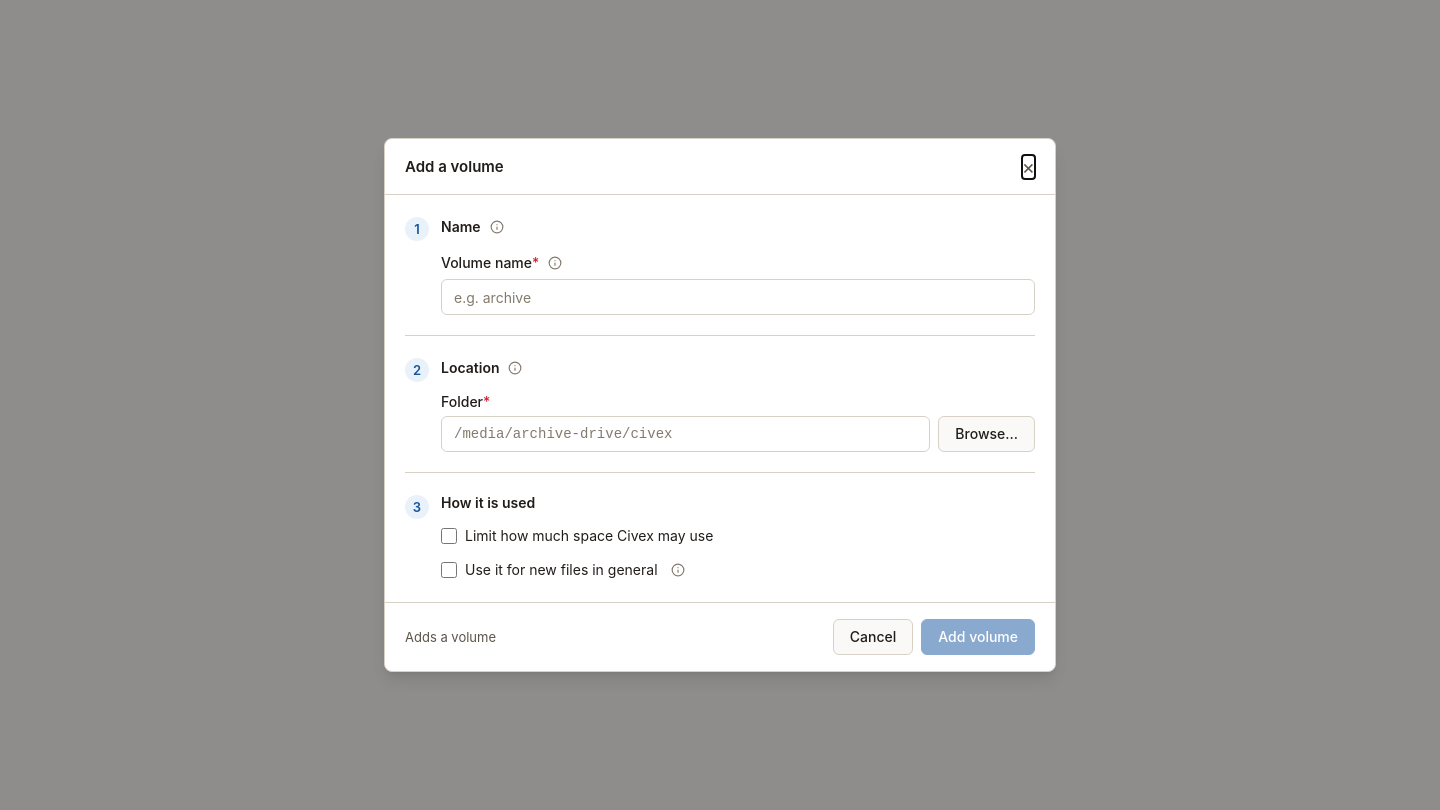
Test: AddVolumeModal › checks the folder as you type and enables adding when it is fine
The image size is (1440, 810).
Step 1. Type "archive" into the field labelled "Volume name*" → [738, 297], box 441,279 -> 1035,315
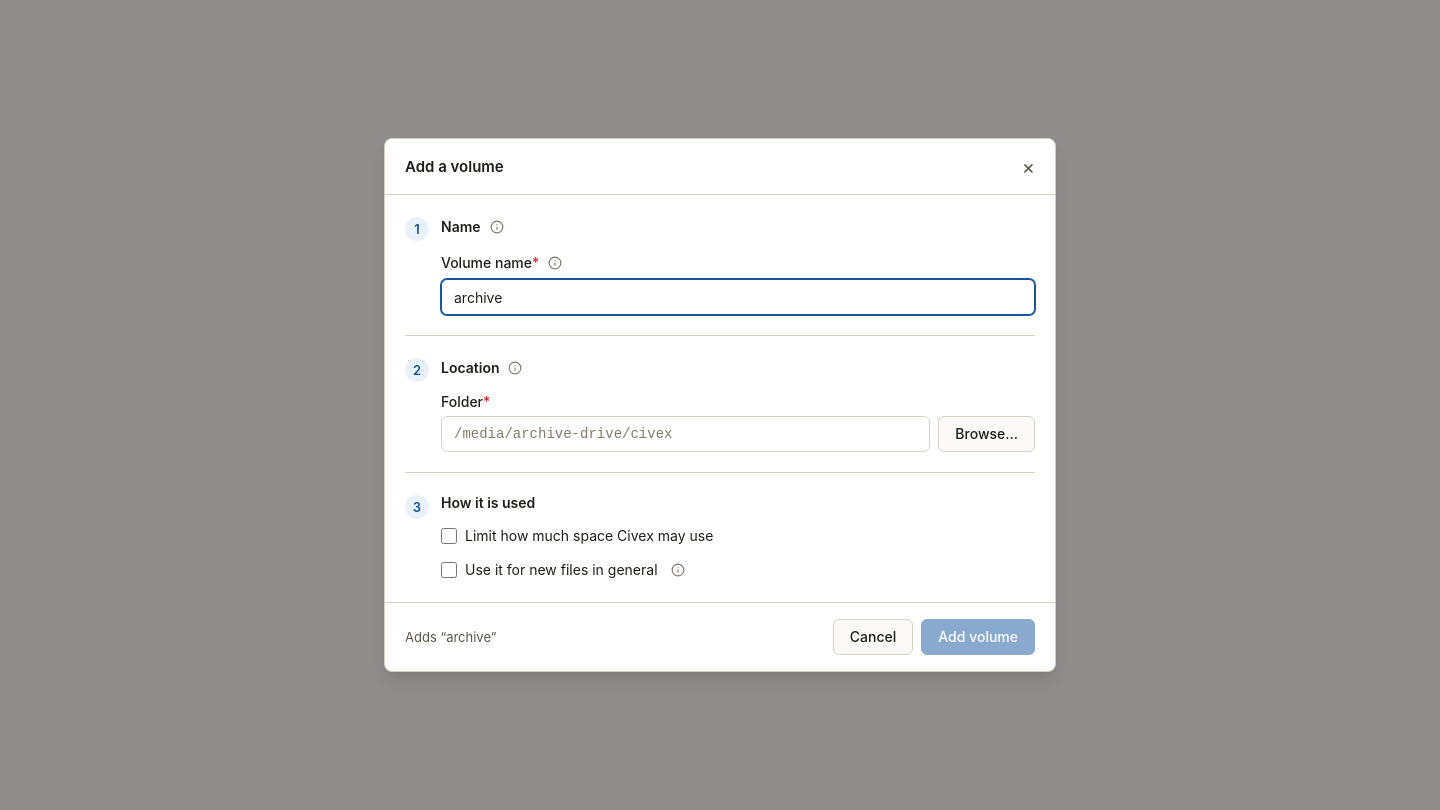
Step 2. Type "/media/usb/civex" into the field labelled "Folder*" → [686, 434], box 441,416 -> 930,452
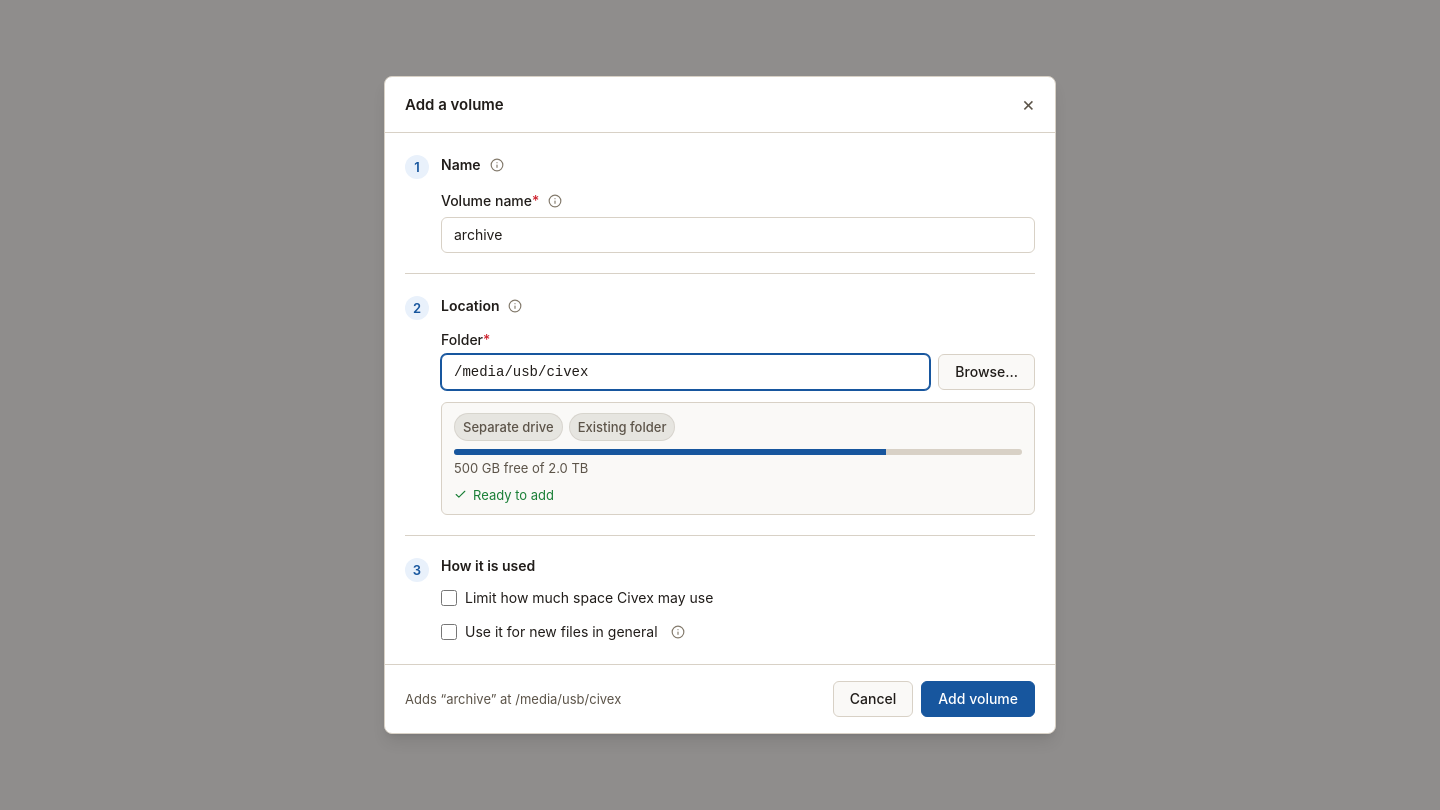
expect the element named "Location check" shows "Separate drive": met, box 463,419 -> 554,435
expect the element named "Location check" shows "Existing folder": met, box 578,419 -> 666,435
expect the element named "Location check" shows "500 GB free of 2.0 TB": met, box 441,402 -> 1035,515
